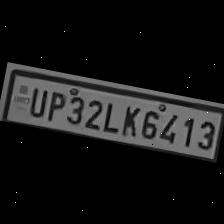1: (174, 110, 198, 146)
2: (82, 93, 106, 130)
3: (192, 114, 219, 150), (61, 90, 86, 125)
4: (156, 107, 182, 143)
6: (136, 103, 162, 139)
K: (116, 100, 141, 137)
L: (100, 96, 124, 134)
P: (44, 85, 68, 121)
U: (24, 82, 50, 118)
